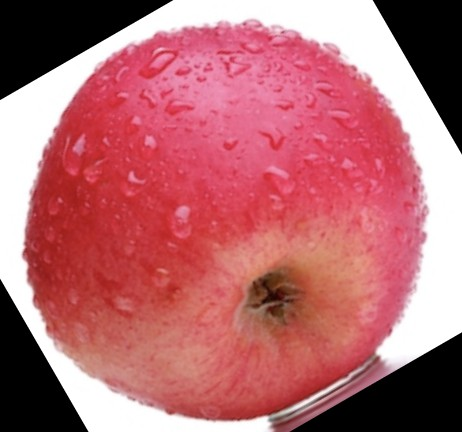fresh_apple: (20, 24, 426, 422)
